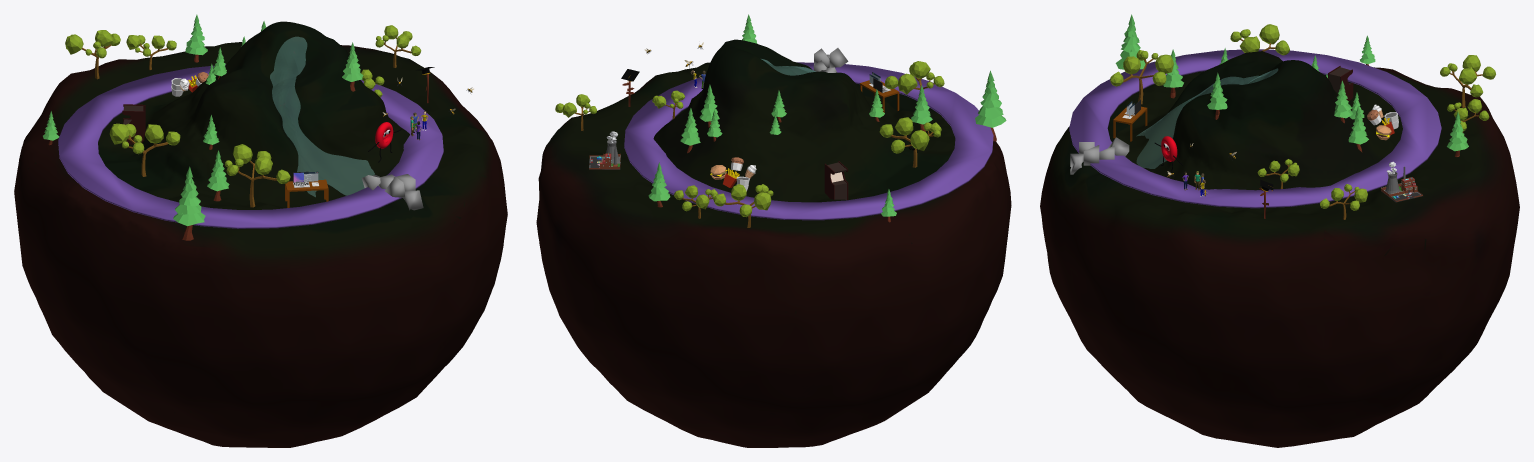
The model's file is ProfDevIslandJoined.glb.
3 views of the same model, side by side, from view 1: azimuth 30°, elevation 25°; view 2: azimuth 150°, elevation 25°; view 3: azimuth 270°, elevation 25° (orthographic). The views are drawn at different scales.
Visible parts, largest first — view 1: JoinedIsland; view 2: JoinedIsland; view 3: JoinedIsland.
Part boxes in pixels (x1,y1,x2,y2): JoinedIsland: (14, 14, 507, 447); JoinedIsland: (536, 14, 1011, 447); JoinedIsland: (1040, 14, 1519, 447).
Size of the model in its own units: 30.65 by 26.86 by 30.7.
Materials: 74 (7 with a texture image).
